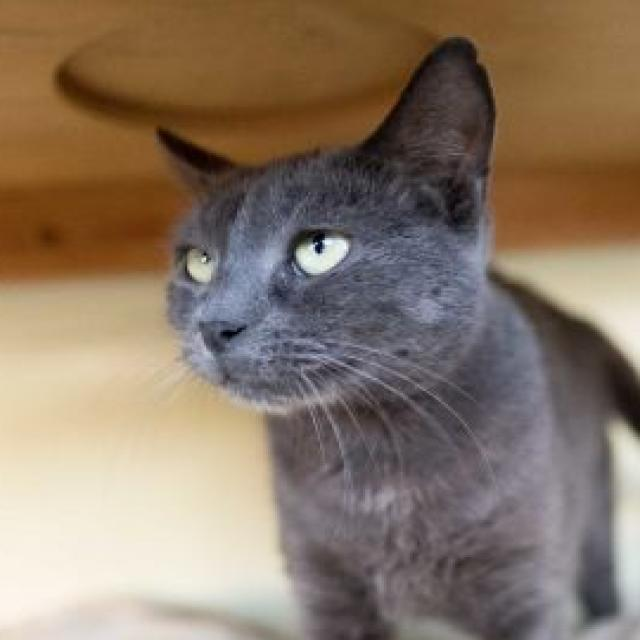Russian Blue: (147, 30, 640, 640)
